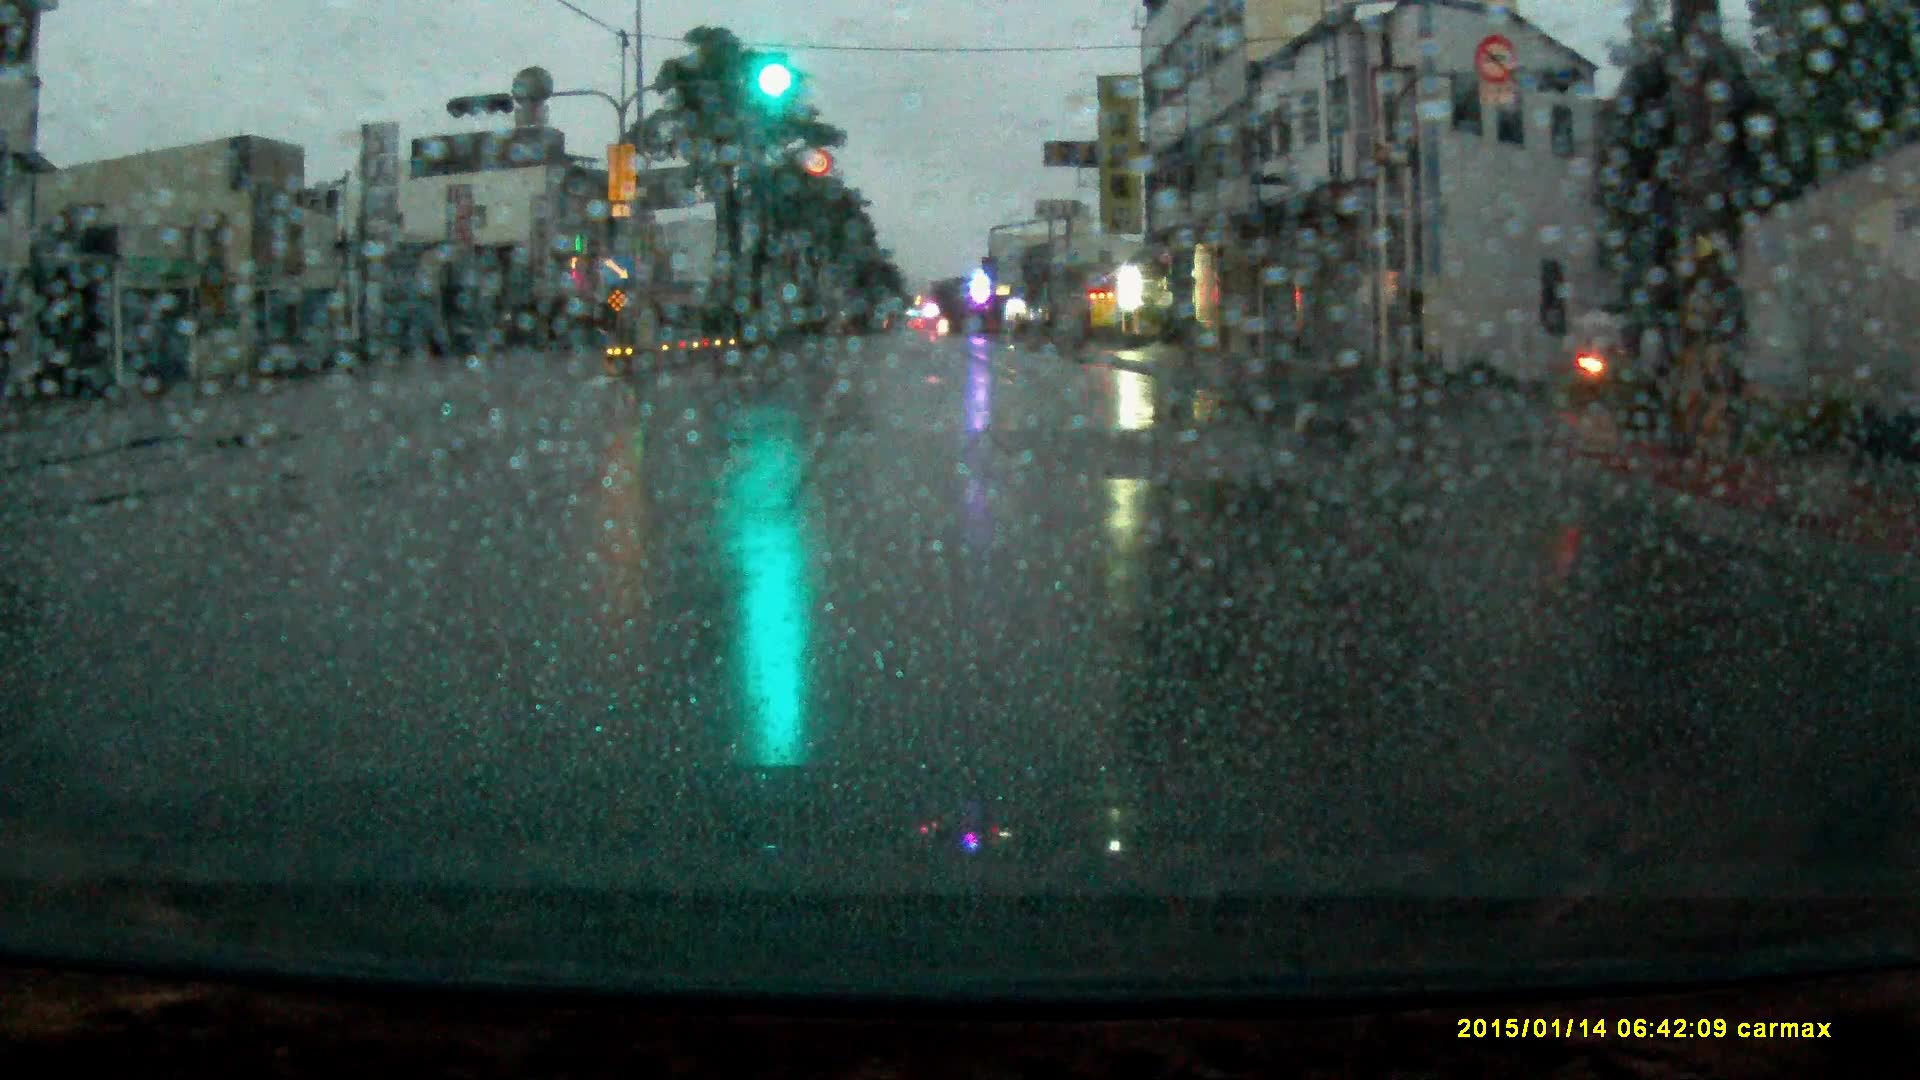rider: (1568, 288, 1636, 400)
